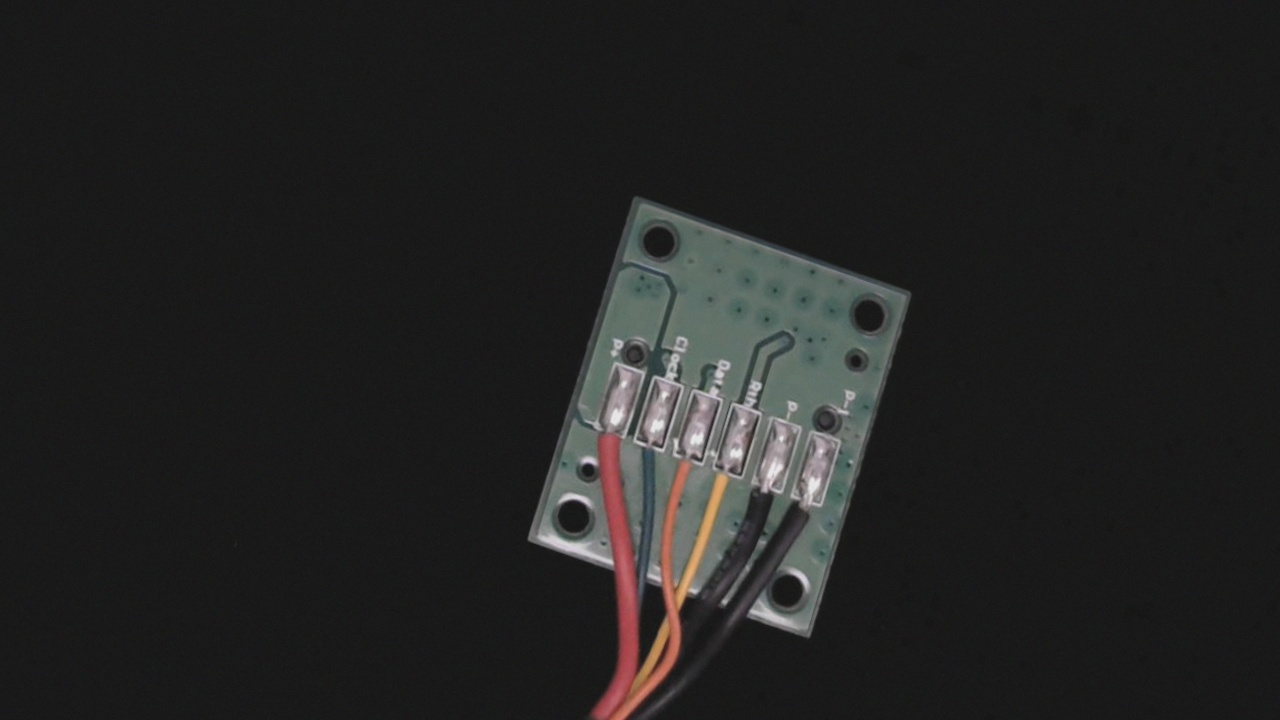Black: (735, 467, 788, 547)
Black1: (773, 480, 831, 563)
Green: (619, 422, 674, 493)
Orange: (656, 438, 711, 518)
Red: (577, 408, 633, 492)
Yellow: (691, 451, 753, 542)
